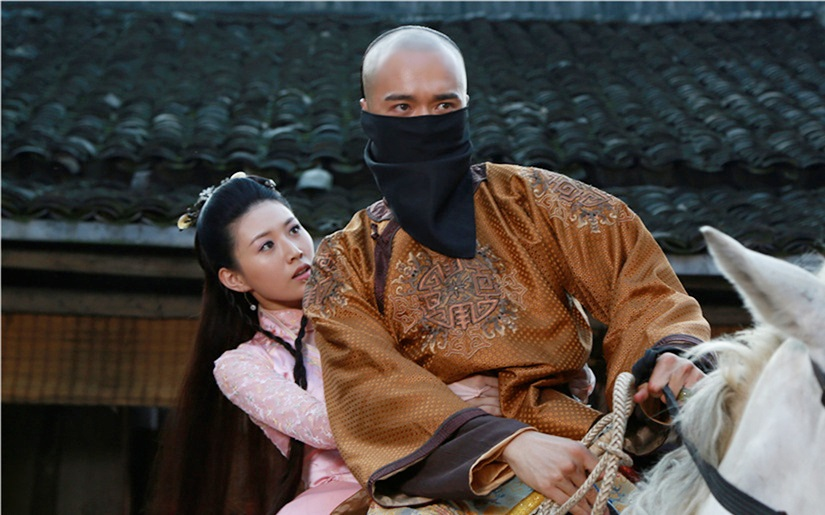face: (238, 201, 316, 298)
face_mask: (362, 57, 468, 159)
